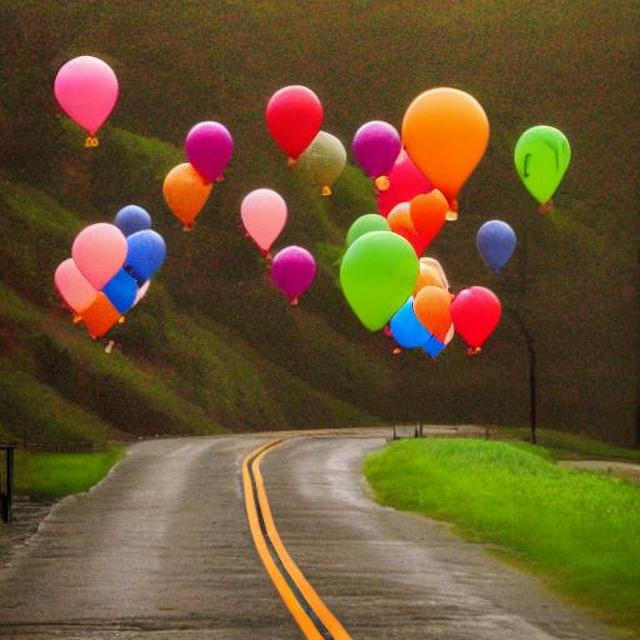balloon: (394, 78, 491, 205), (338, 230, 423, 335), (399, 278, 501, 360), (503, 122, 582, 218), (49, 54, 122, 148), (257, 84, 327, 164), (150, 162, 224, 232), (174, 114, 236, 187), (292, 124, 347, 194), (47, 251, 105, 317), (264, 242, 320, 303), (73, 227, 127, 284), (111, 232, 175, 274), (242, 187, 284, 246), (67, 300, 127, 336), (483, 222, 523, 276), (111, 200, 161, 232), (94, 272, 136, 305)
